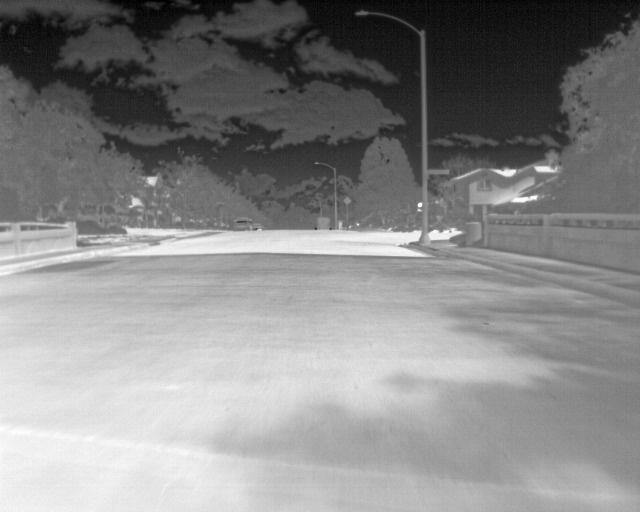car: (314, 214, 333, 229), (235, 217, 250, 231), (250, 221, 263, 231)
